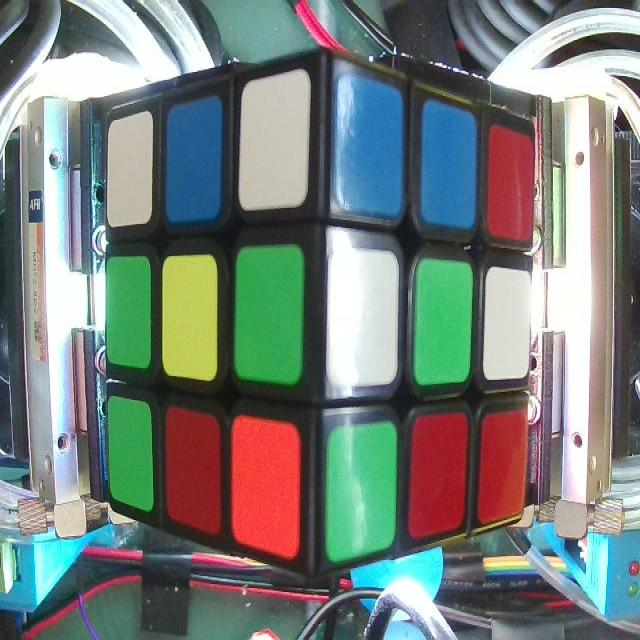b: (338, 78, 403, 214), (423, 101, 476, 227), (168, 105, 221, 224)
g: (238, 253, 302, 383), (328, 433, 394, 556), (418, 265, 471, 379), (106, 260, 150, 368), (112, 398, 153, 506)
o: (234, 422, 300, 558)
r: (168, 408, 220, 531), (419, 417, 467, 528), (490, 124, 533, 233), (482, 420, 522, 516)
w: (331, 256, 395, 385), (242, 83, 306, 208), (109, 120, 151, 224), (489, 273, 527, 379)
y: (164, 260, 215, 381)
